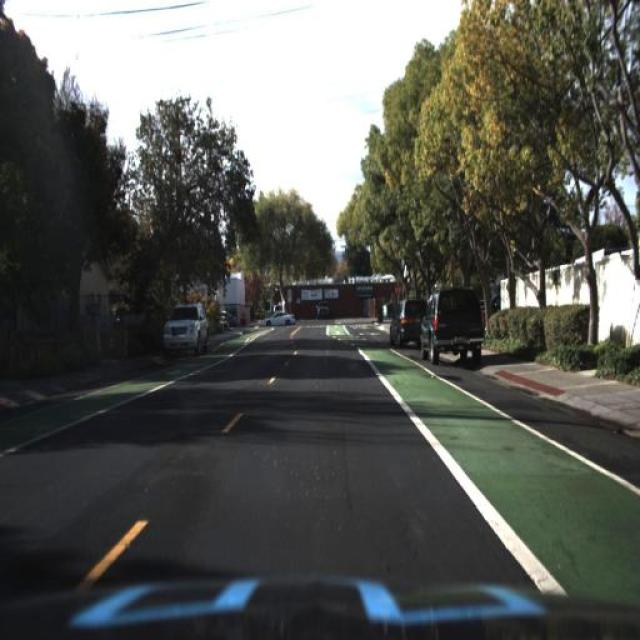car: (419, 284, 487, 368), (156, 296, 210, 356), (378, 297, 422, 347), (260, 304, 296, 328)
